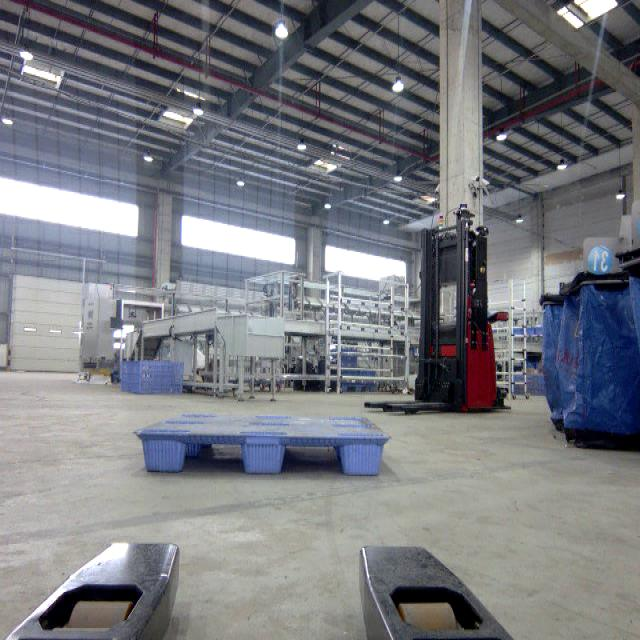block: (132, 433, 190, 471), (340, 438, 392, 476), (243, 437, 288, 472)
front: (138, 434, 390, 477)
hole pallet: (178, 441, 244, 472), (280, 444, 345, 474)
